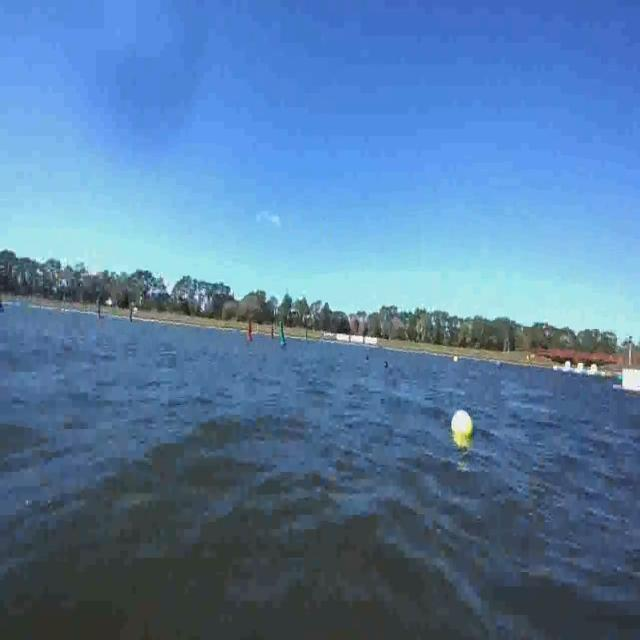black-buoy: (383, 357, 390, 369), (365, 351, 370, 360)
blue-buoy: (495, 356, 503, 370)
green-column-buoy: (279, 320, 286, 346)
red-column-buoy: (247, 320, 254, 341)
yellow-buoy: (450, 412, 471, 439), (453, 353, 459, 365)
